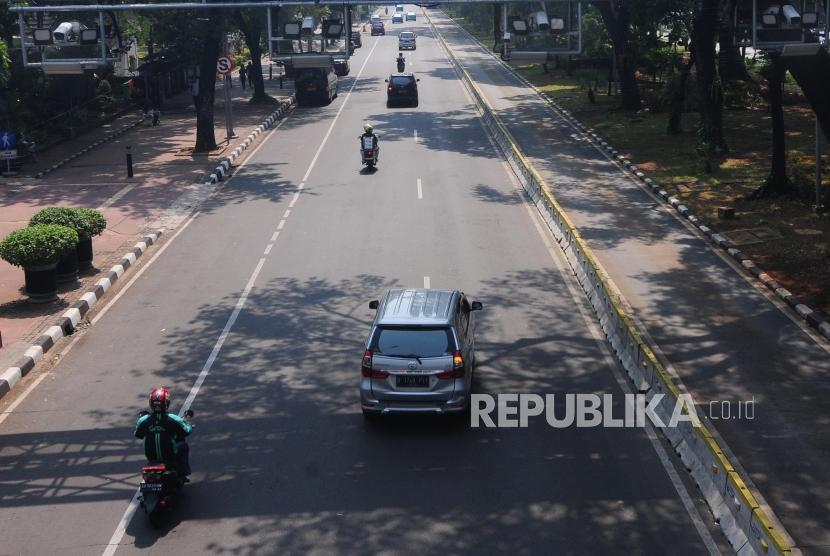car: (361, 288, 479, 420), (388, 73, 421, 107), (400, 31, 415, 51)
motorbike: (361, 125, 383, 175), (397, 53, 406, 75)
